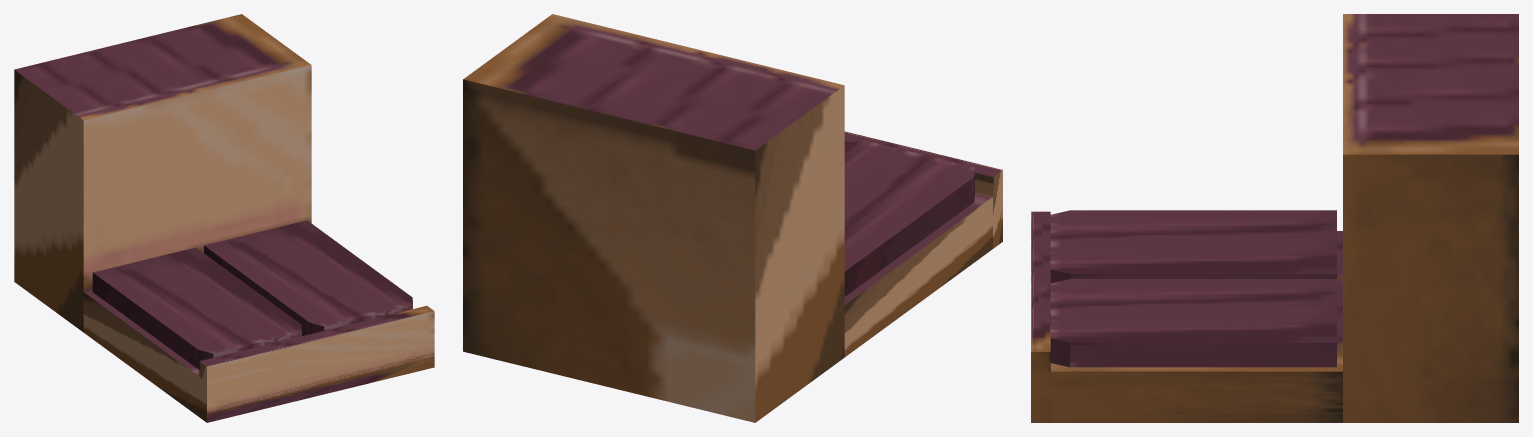
Rendered from pz_whirled_1_fidelity_r1.obj.
3 views of the same model, side by side, from view 1: azimuth 30°, elevation 25°; view 2: azimuth 150°, elevation 25°; view 3: azimuth 270°, elevation 25° (orthographic). The views are drawn at different scales.
Visible parts, largest first — view 1: pz_whirled_1_fidelity_r1; view 2: pz_whirled_1_fidelity_r1; view 3: pz_whirled_1_fidelity_r1.
Part boxes in pixels (x1,y1,x2,y2): pz_whirled_1_fidelity_r1: (14, 14, 434, 422); pz_whirled_1_fidelity_r1: (463, 14, 1002, 422); pz_whirled_1_fidelity_r1: (1031, 14, 1518, 422).
Size of the model in its own units: 0.85 by 0.757 by 1.25.
1 material, 1 textured.
